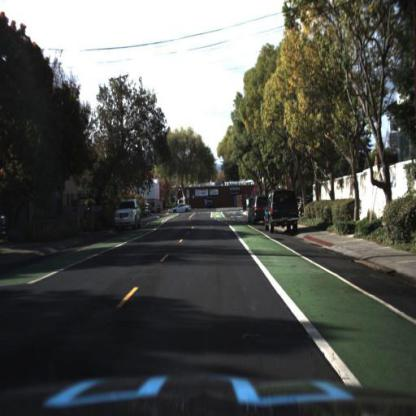car: (264, 187, 300, 235), (112, 196, 143, 232), (248, 192, 266, 226), (169, 201, 192, 217)
